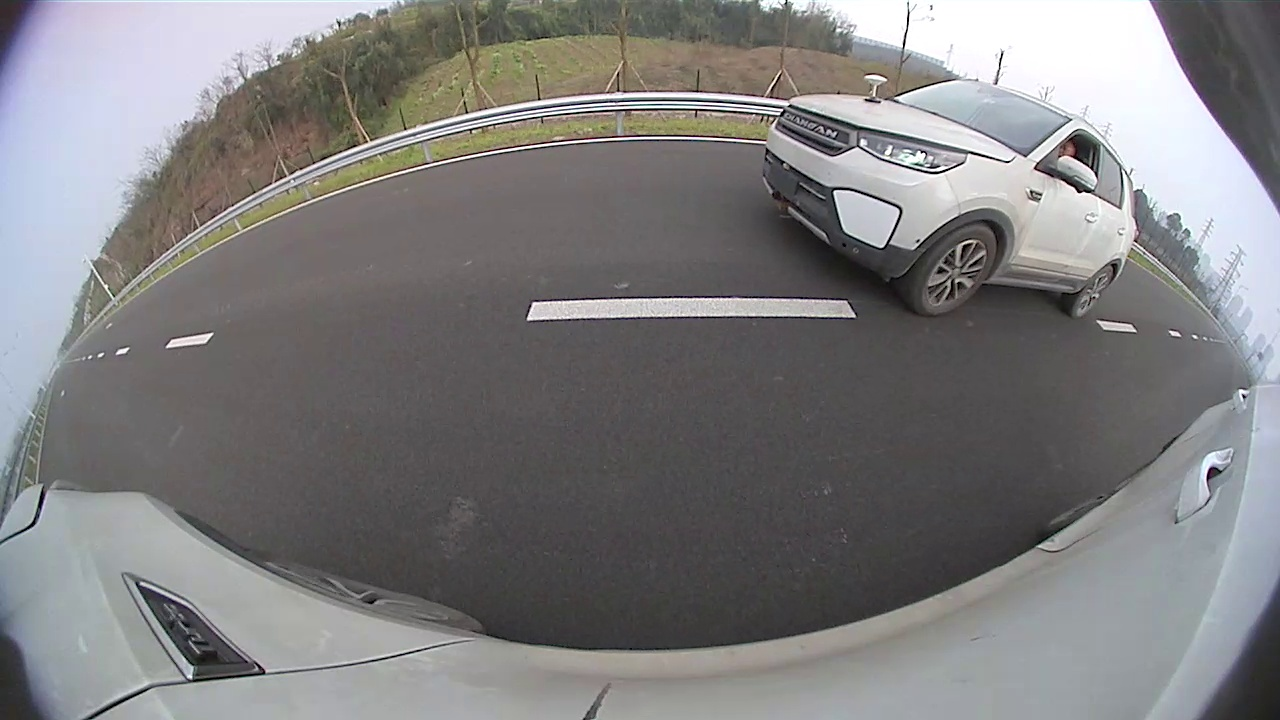car: (763, 72, 1139, 319)
front: (916, 225, 997, 315)
rear: (1071, 267, 1117, 321)
